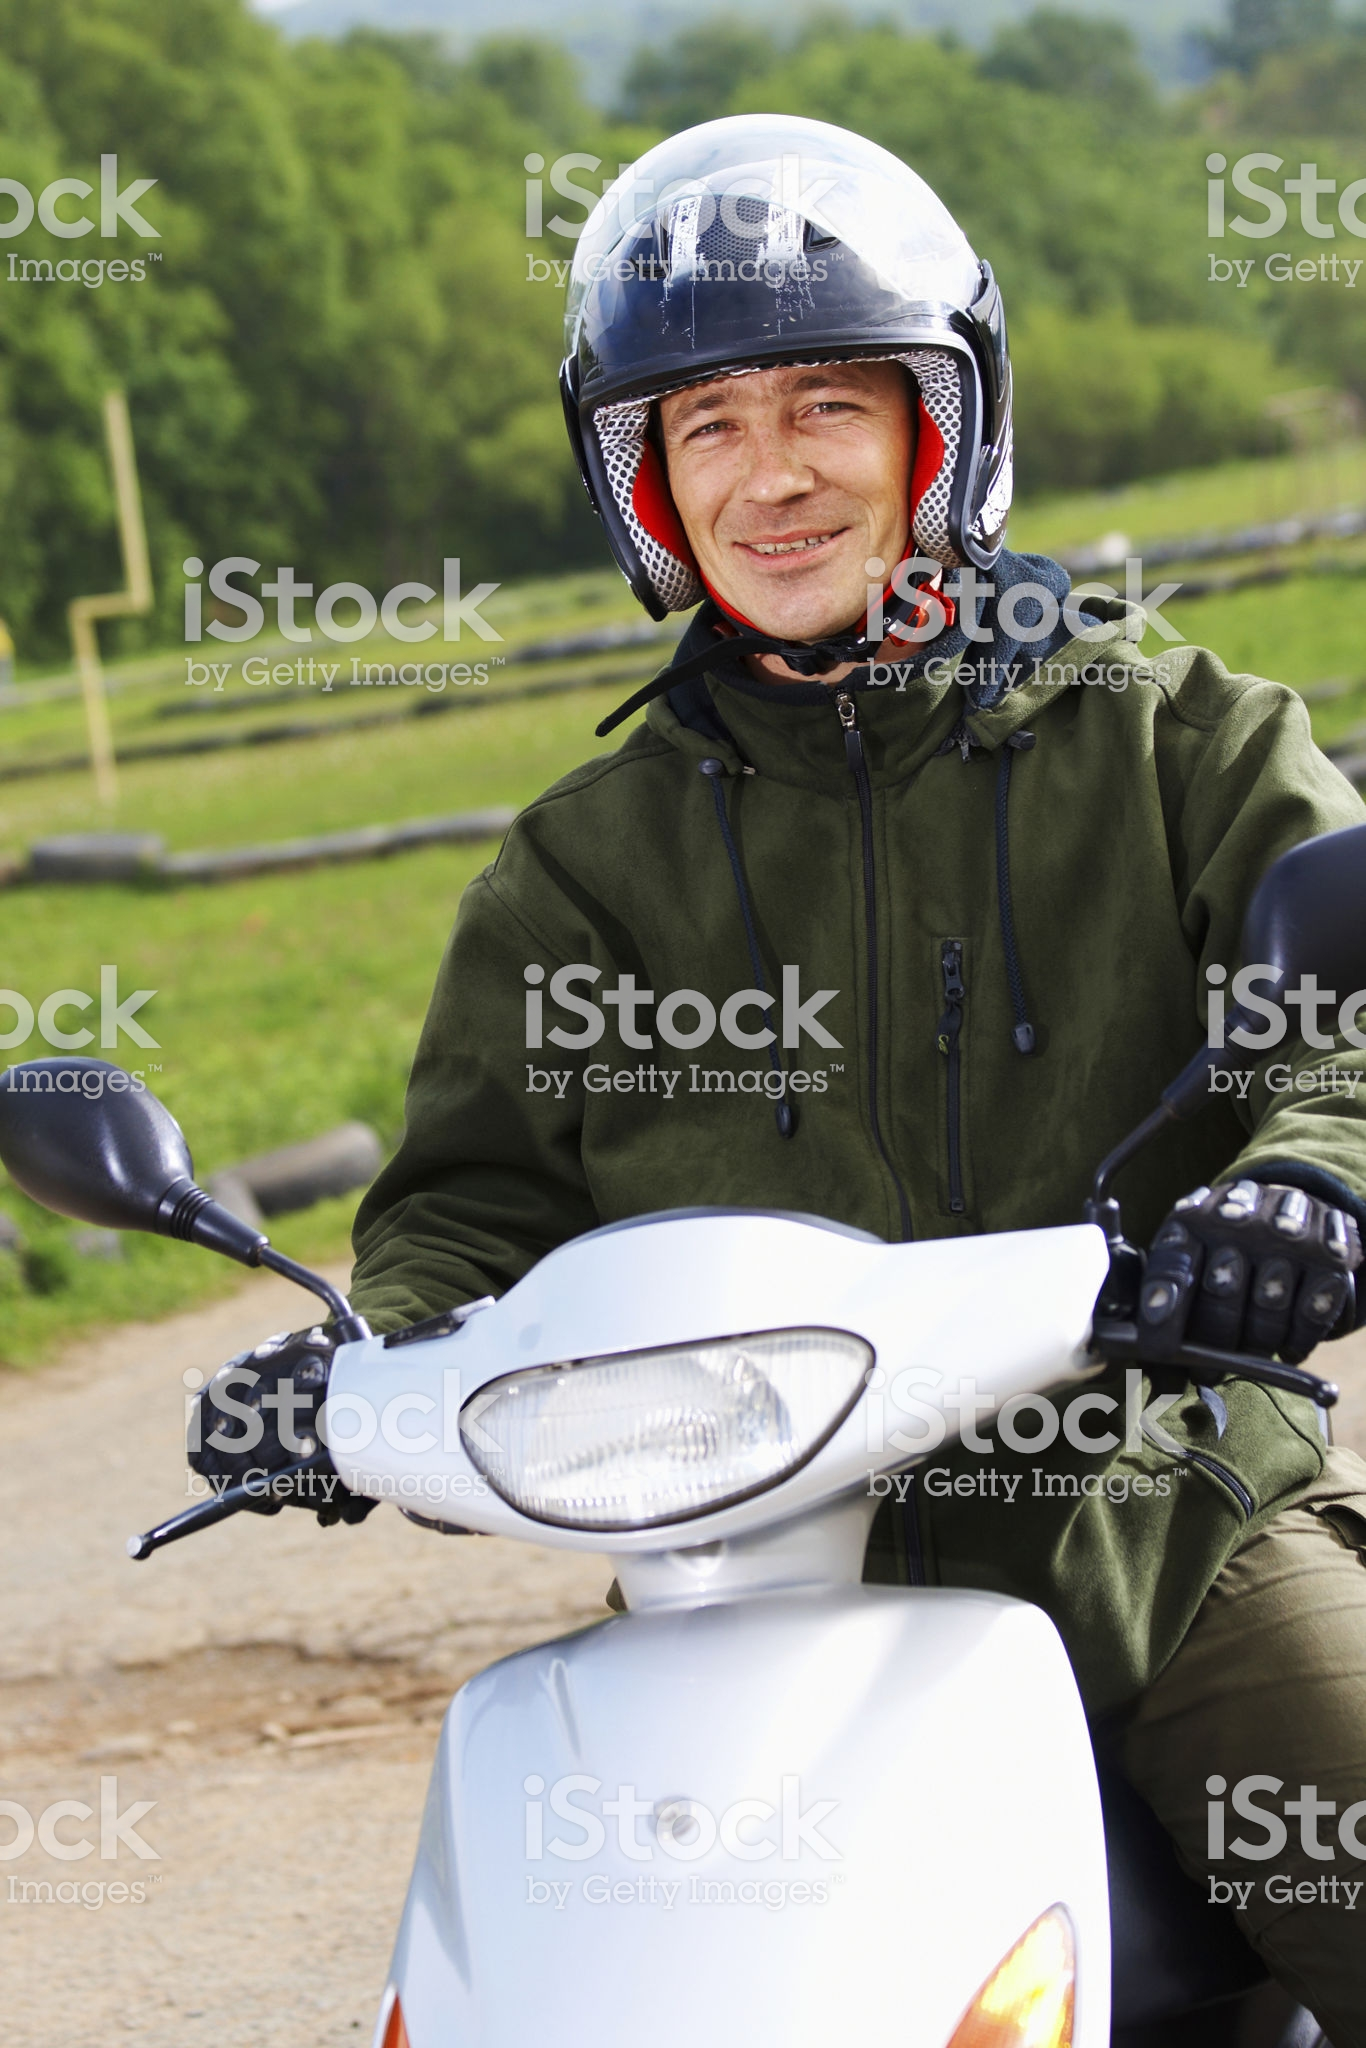helmet: (535, 98, 1020, 538)
